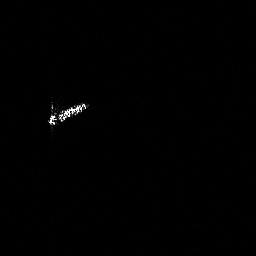ship: (46, 100, 91, 129)
